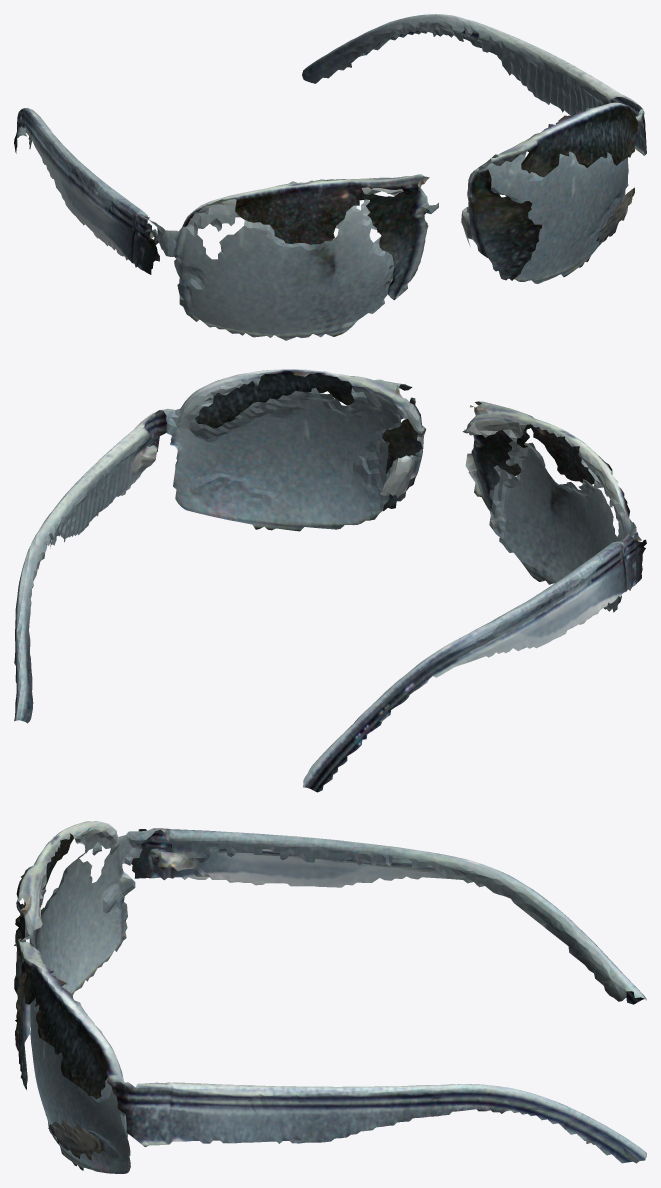
Rendered from scan_align.obj.
3 views of the same model, one above another, from view 1: azimuth 30°, elevation 25°; view 2: azimuth 150°, elevation 25°; view 3: azimuth 270°, elevation 25° (orthographic). The views are drawn at different scales.
Bounding box in the file's own units: 0.144 × 0.0442 × 0.1458.
Materials: 1 (1 with a texture image).
